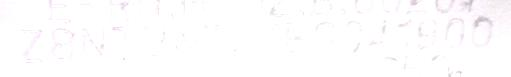letter: (136, 23, 169, 62), (77, 25, 108, 66), (199, 22, 230, 61), (14, 26, 45, 65), (231, 22, 262, 59), (46, 26, 77, 63), (309, 19, 339, 56), (170, 24, 200, 61), (107, 24, 136, 61), (282, 21, 309, 58), (467, 15, 493, 52), (441, 16, 467, 53), (339, 20, 364, 57), (365, 19, 393, 52), (414, 16, 440, 51), (263, 23, 282, 60), (393, 17, 413, 52)
